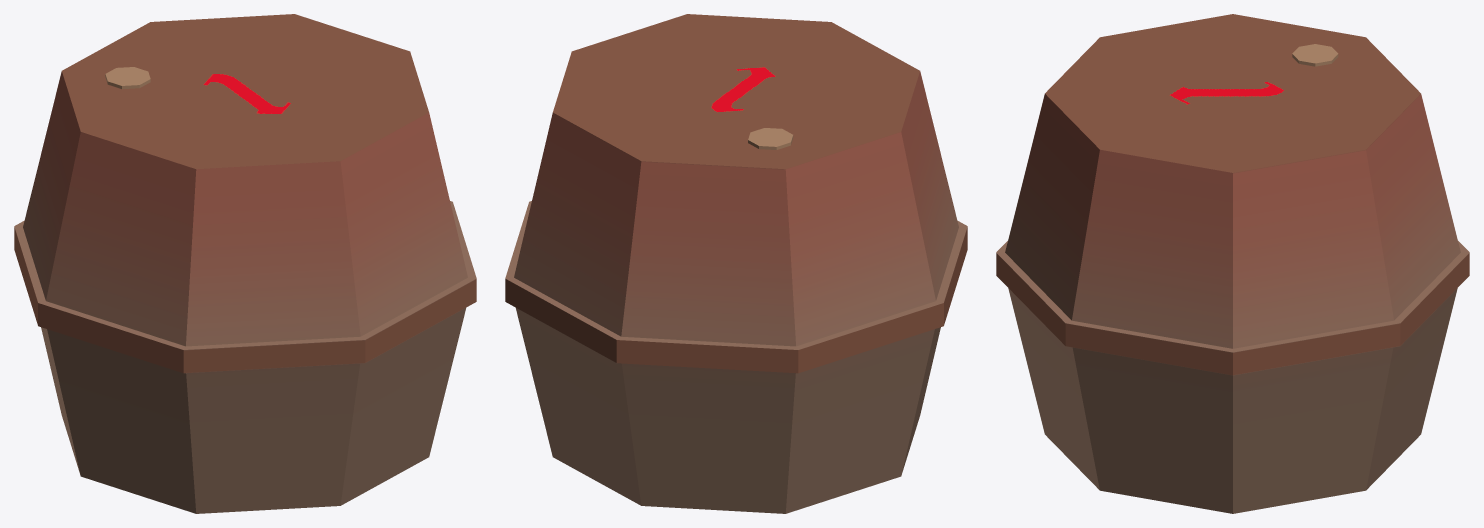
Rendered from barrel.fbx.
The picture shows the model from 3 angles, left to right: view 1: azimuth 30°, elevation 25°; view 2: azimuth 150°, elevation 25°; view 3: azimuth 270°, elevation 25°; orthographic projection.
Parts seen in each view (by area): view 1: lp; view 2: lp; view 3: lp.
Boxes of the visible parts, box(x1,y1,x2,y2) form: lp: box(14, 14, 476, 513); lp: box(505, 14, 967, 513); lp: box(996, 14, 1469, 513).
Bounding box in the file's own units: 252 × 202 × 252.
Materials: 1 (1 with a texture image).
